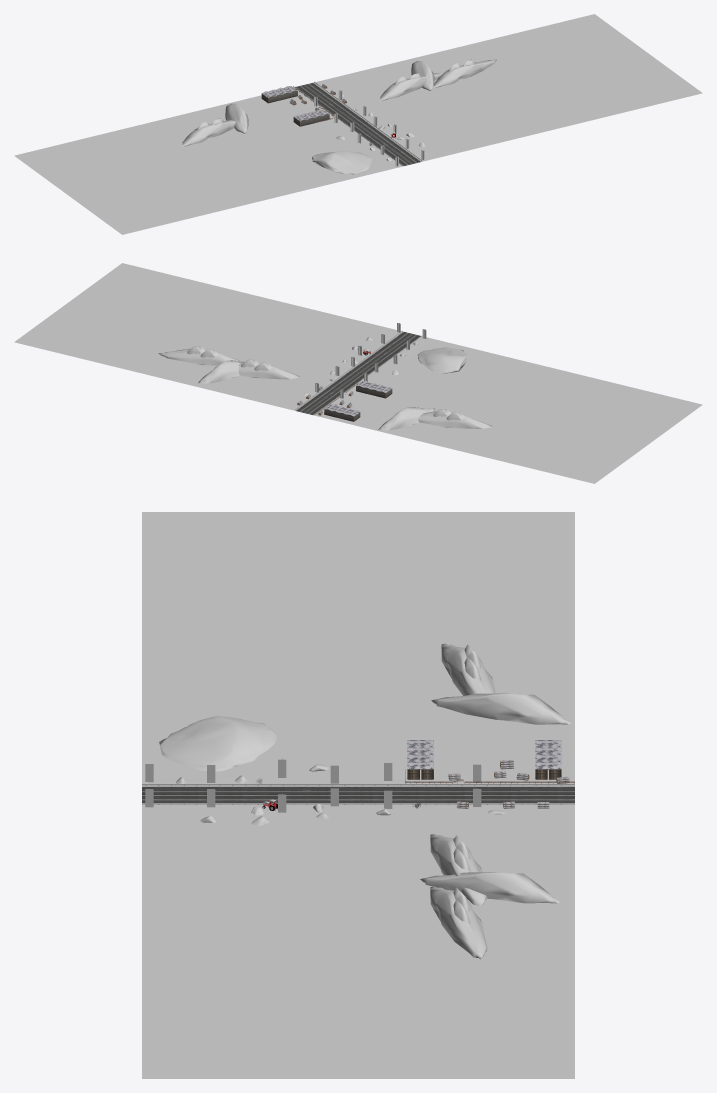
The model's file is snow _ p_04.FBX.
3 renders of one model, top to bottom at view 1: azimuth 30°, elevation 25°; view 2: azimuth 150°, elevation 25°; view 3: azimuth 270°, elevation 25°, orthographic. The views are drawn at different scales.
Visible parts, largest first — view 1: Object632, Object656, road 4, Object568, Object565, Object569, Object627, Object739, Object780, Object626; view 2: Object656, Object632, road 4, Object565, Object568, Object569, Object627, Object626, Object780, Object739; view 3: Object656, Object632, road 4, Object627, Object626, Object568, Object565, Object569, Object780, Object739.
Boxes of the visible parts, bbox=[...] form: Object632: bbox=[14, 90, 402, 234]; Object656: bbox=[314, 14, 702, 161]; road 4: bbox=[295, 82, 421, 166]; Object568: bbox=[433, 59, 496, 88]; Object565: bbox=[181, 118, 235, 146]; Object569: bbox=[379, 73, 441, 101]; Object627: bbox=[225, 103, 248, 133]; Object739: bbox=[261, 86, 297, 103]; Object780: bbox=[293, 109, 329, 126]; Object626: bbox=[411, 61, 434, 90]; Object656: bbox=[14, 263, 402, 410]; Object632: bbox=[314, 336, 702, 483]; road 4: bbox=[295, 331, 421, 415]; Object565: bbox=[418, 409, 492, 428]; Object568: bbox=[158, 346, 240, 365]; Object569: bbox=[215, 359, 300, 379]; Object627: bbox=[378, 407, 434, 430]; Object626: bbox=[198, 360, 244, 383]; Object780: bbox=[356, 381, 392, 398]; Object739: bbox=[324, 404, 360, 421]; Object656: bbox=[142, 805, 574, 1078]; Object632: bbox=[142, 512, 574, 785]; road 4: bbox=[142, 786, 574, 804]; Object627: bbox=[431, 693, 571, 724]; Object626: bbox=[420, 872, 559, 903]; Object568: bbox=[430, 886, 487, 959]; Object565: bbox=[441, 643, 495, 695]; Object569: bbox=[430, 833, 487, 905]; Object780: bbox=[407, 740, 433, 779]; Object739: bbox=[535, 740, 561, 779].
Size of the model in its own units: 11621 by 267 by 3754.
